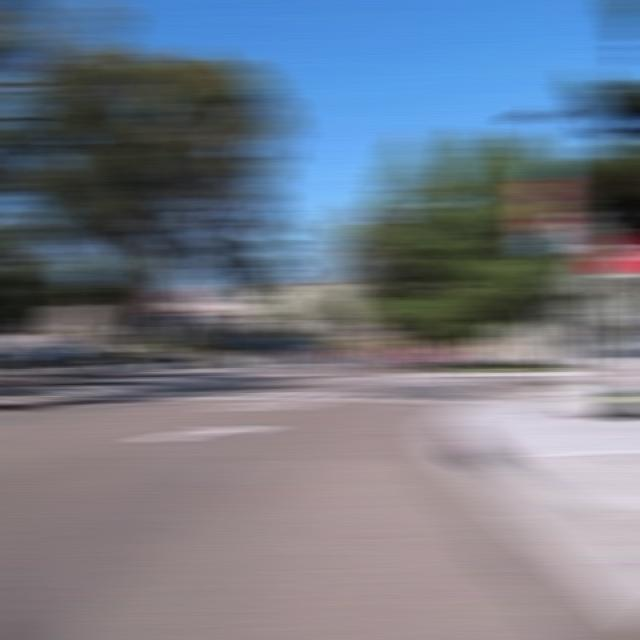stop: (585, 225, 640, 275)
